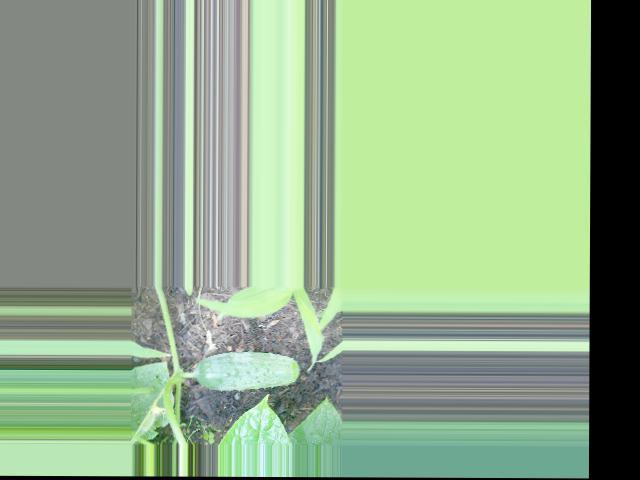cucumber: (195, 350, 301, 390)
